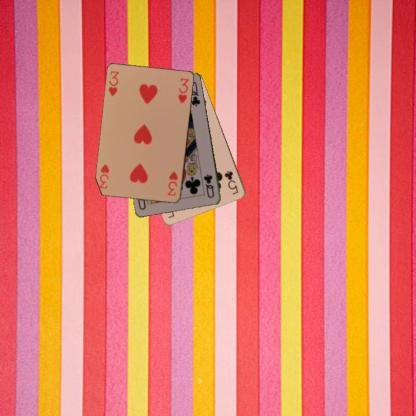3h: (106, 69, 120, 98), (165, 169, 179, 197)
5c: (222, 168, 240, 196)
Qc: (201, 172, 216, 199)
